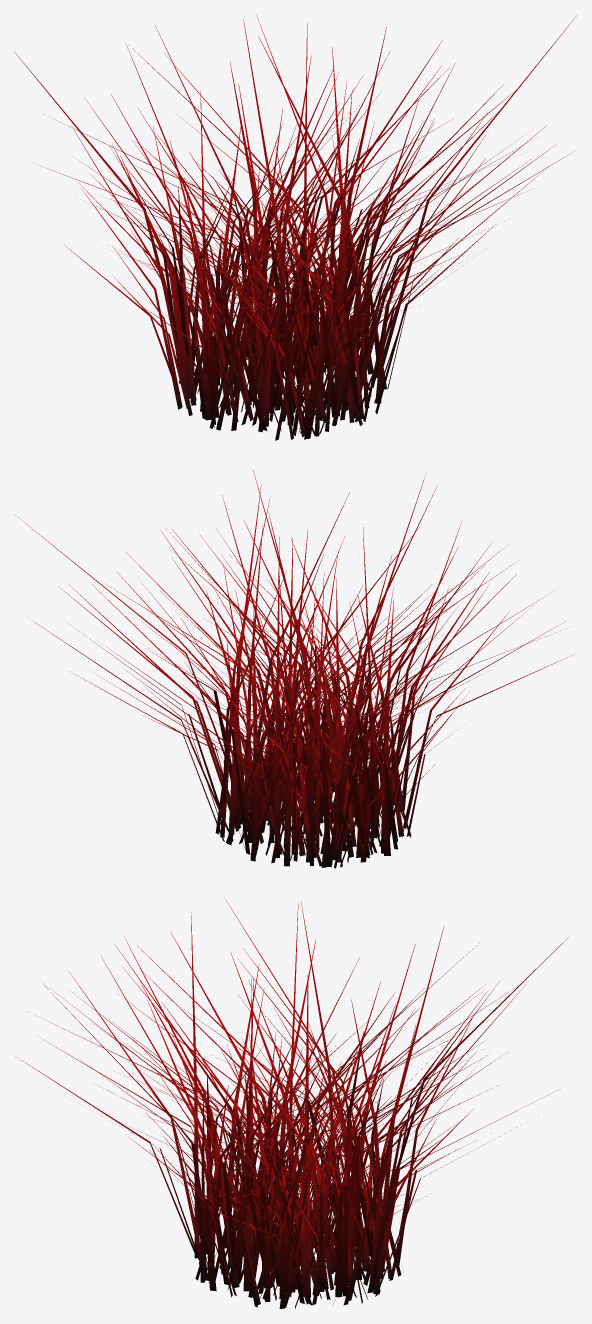
The model's file is frost_fescue_v3.fbx.
The picture shows the model from 3 angles, top to bottom: view 1: azimuth 30°, elevation 25°; view 2: azimuth 150°, elevation 25°; view 3: azimuth 270°, elevation 25°; orthographic projection. The views are drawn at different scales.
Parts seen in each view (by area): view 1: frost_fescue_v3; view 2: frost_fescue_v3; view 3: frost_fescue_v3.
Part boxes in pixels (bbox=[...]): frost_fescue_v3: bbox=[14, 14, 577, 440]; frost_fescue_v3: bbox=[14, 469, 574, 868]; frost_fescue_v3: bbox=[15, 899, 568, 1308].
Bounding box in the file's own units: 58.28 × 30.21 × 52.48.
